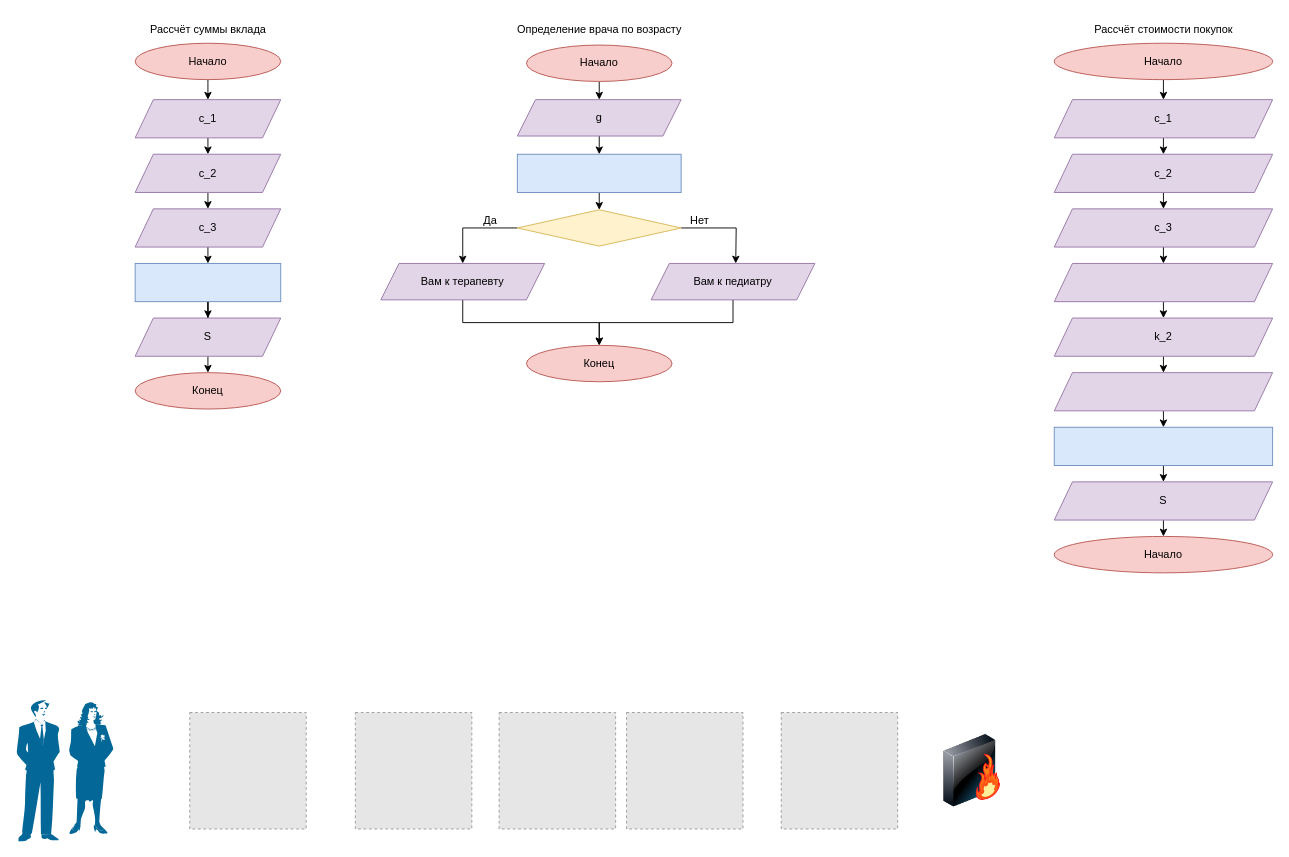
Some shapes in this 1289 by 857 pixel diagram are drawn without their labels. Grey dashed boxes stand in for pictures. The box of each missing label's shape, as (x1, y1, x2, y2) in pixels:
k_1: (1053, 263, 1273, 302)
k_3: (1053, 372, 1273, 411)
S = (c_1 * k_1) + (c_2 * k_2) + (c_3 * k_3): (1053, 426, 1273, 465)
S = (c_1 + c_2 + c_3) * 1.15: (134, 263, 281, 302)
v = today - g: (516, 153, 681, 192)
v >= 18: (516, 209, 681, 246)
